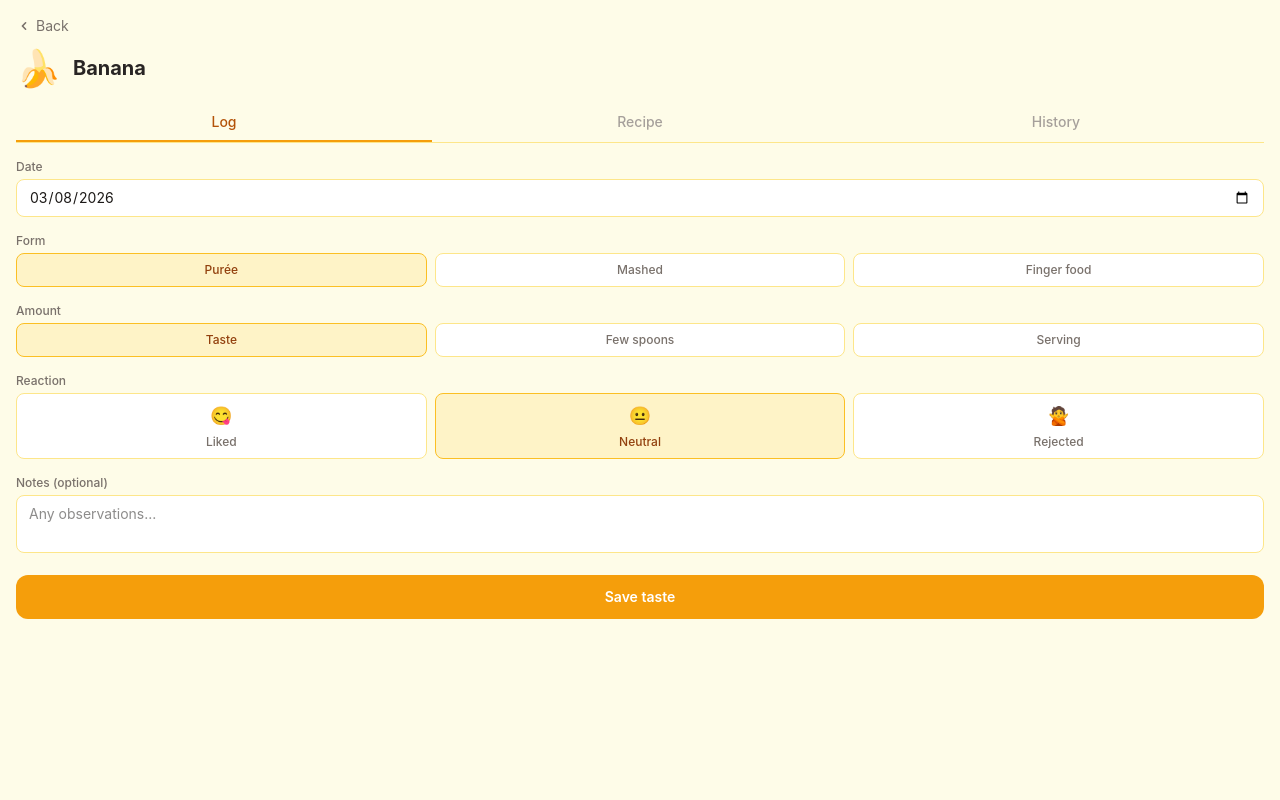
Test: food detail tabs › switching to Recipe tab shows recipe content
Click the button "Recipe".
click(640, 123)  # box [432, 104, 848, 142]
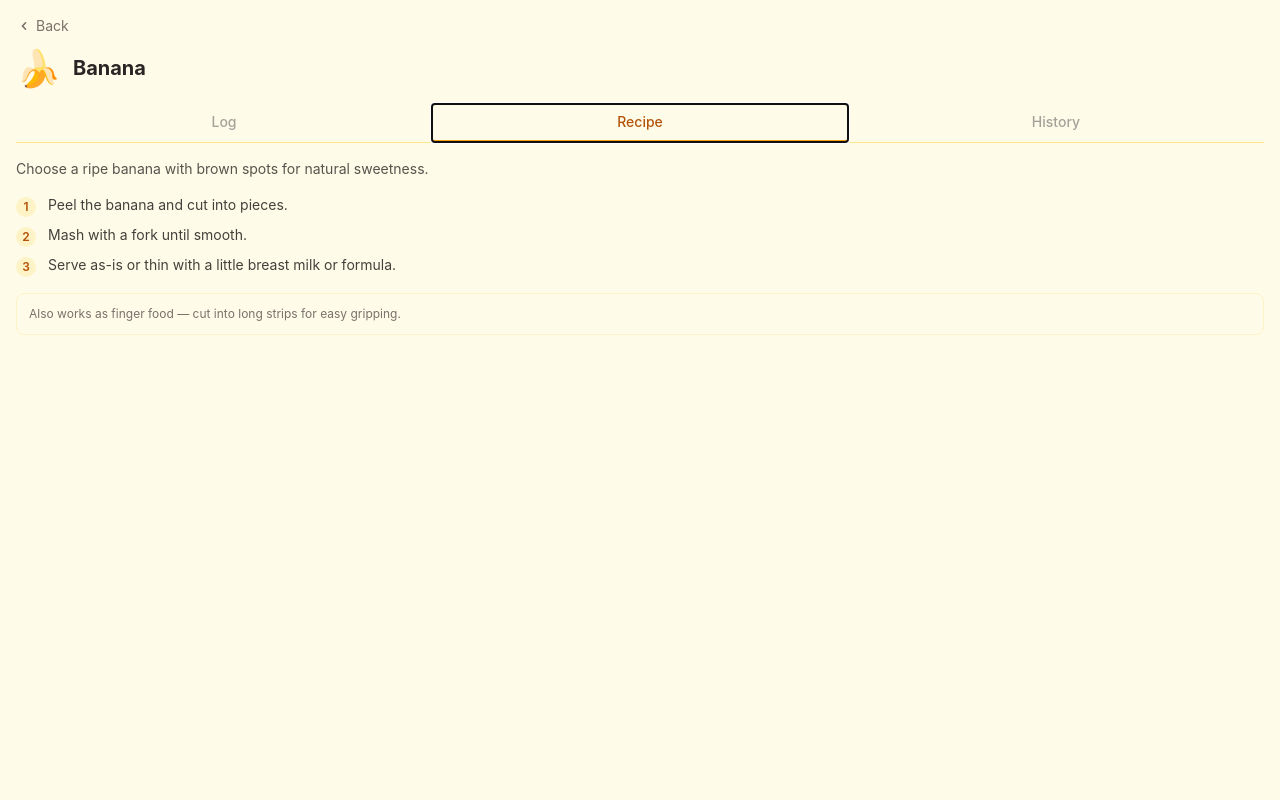
Expected: the text "Choose a ripe banana with brown spots for natural sweetness." is shown, [16, 160, 429, 177]
Expected: the button "Save taste" is gone
